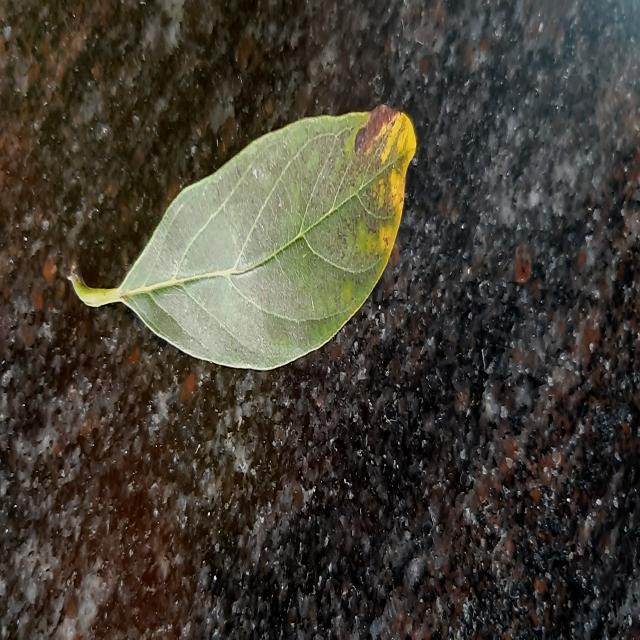leaf: (66, 103, 417, 372)
